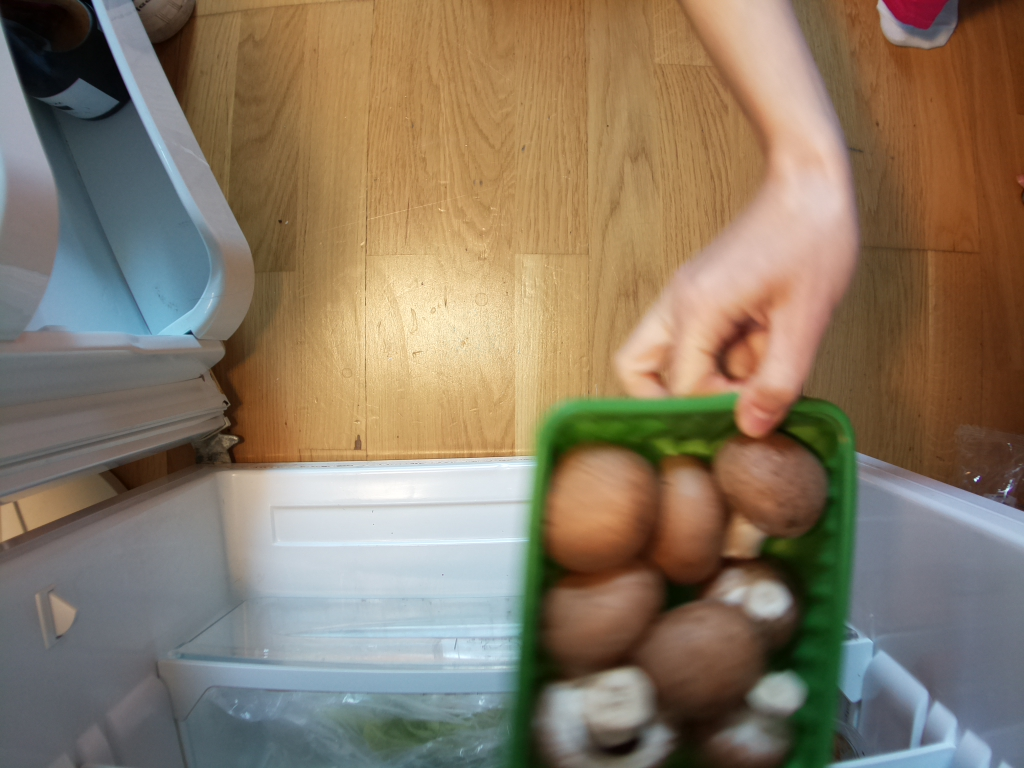mushrooms: (487, 395, 859, 768)
